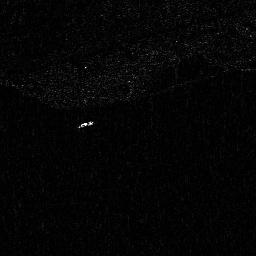ship: (76, 119, 98, 129)
